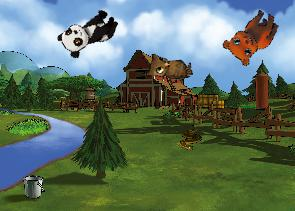bear: (218, 0, 283, 70)
owl: (144, 49, 193, 81)
panda: (55, 3, 122, 61)
